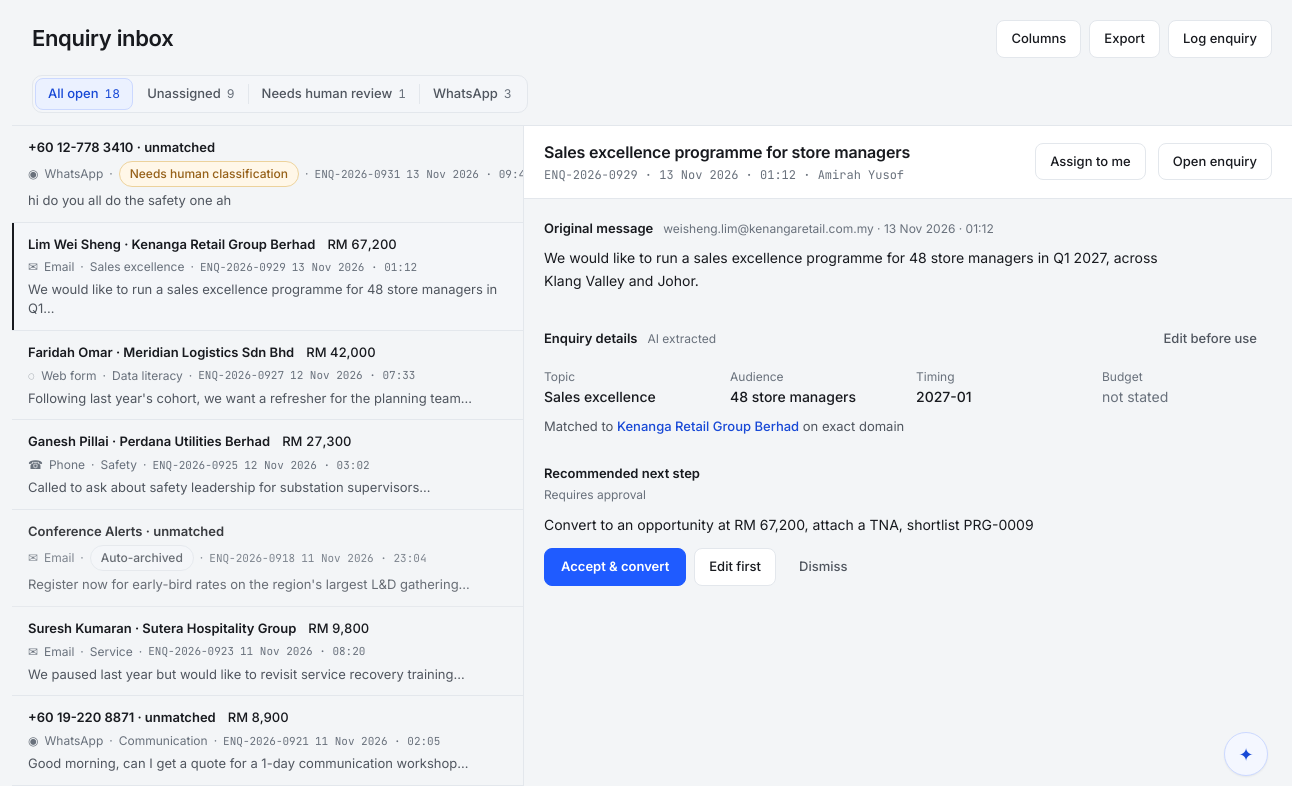
Scenario: M03-S01 · enquiry inbox › still offers one primary on an enquiry the agent made no suggestion for
This screenshot has width=1292, height=786.
Expected: the heading "Enquiry inbox" is shown, [32,22,173,55]
Step 1. Click the text "Suresh Kumaran · Sutera Hospitality Group" → x=162, y=629, box [28,619,296,639]
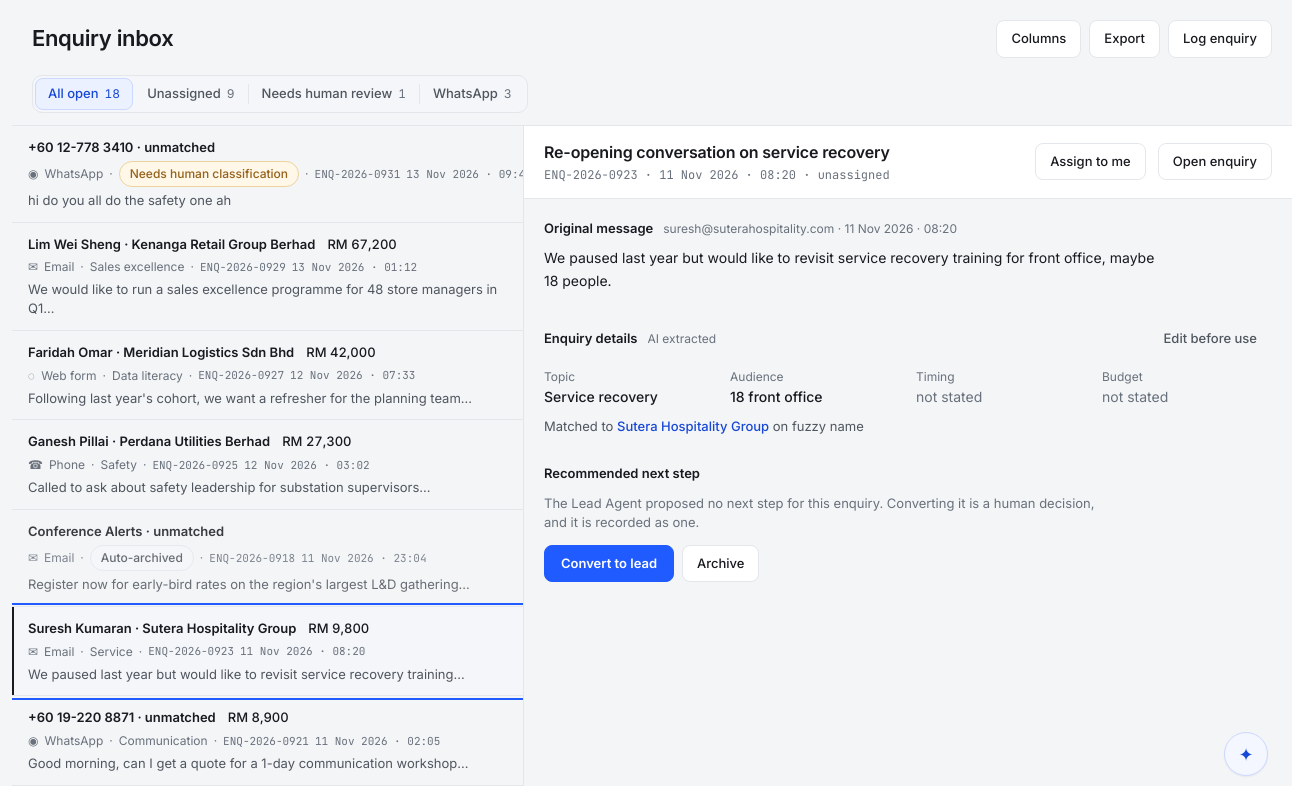
Expected: the text "The Lead Agent proposed no next step" is shown, [544,495,1094,530]
Step 2. Click the button "Convert to lead" → x=609, y=563, box [544,545,674,582]
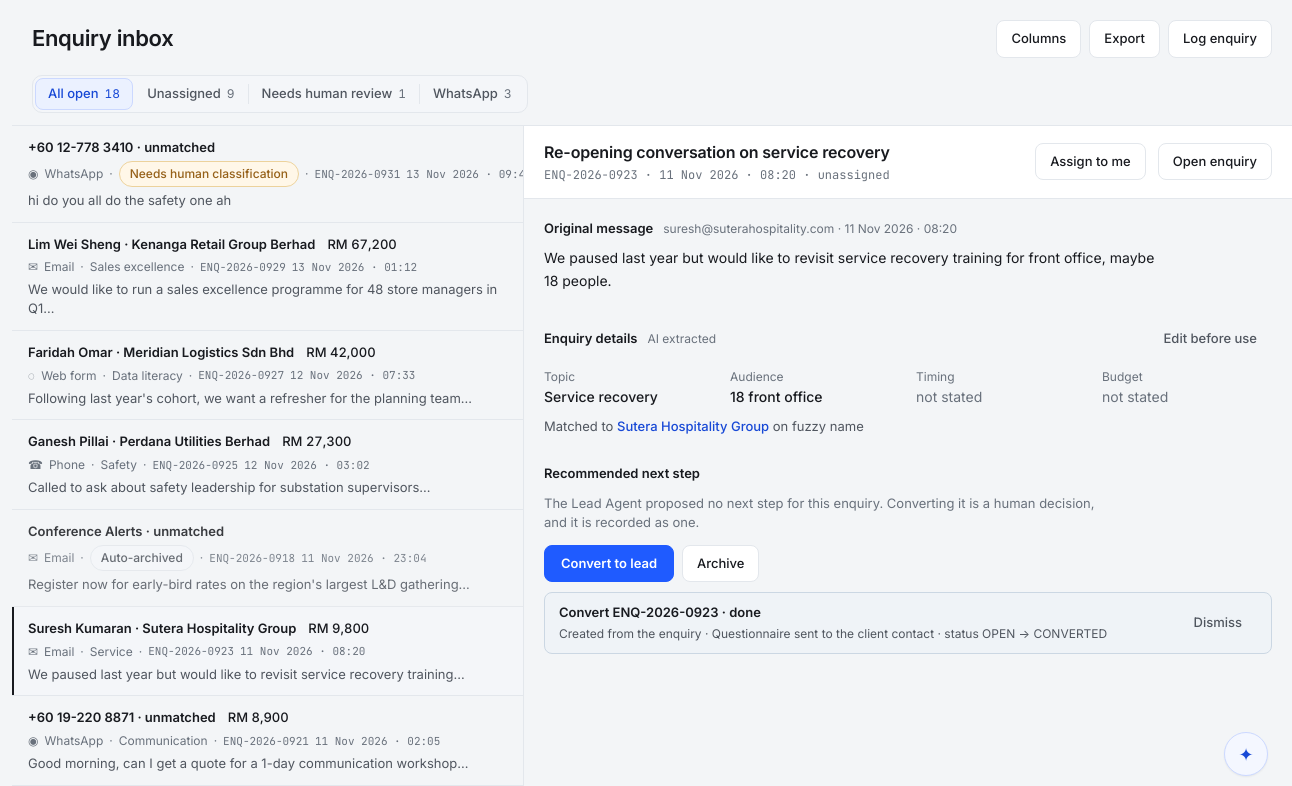
Expected: the text "Convert ENQ-2026-0923 · done" is shown, [559,604,761,620]
